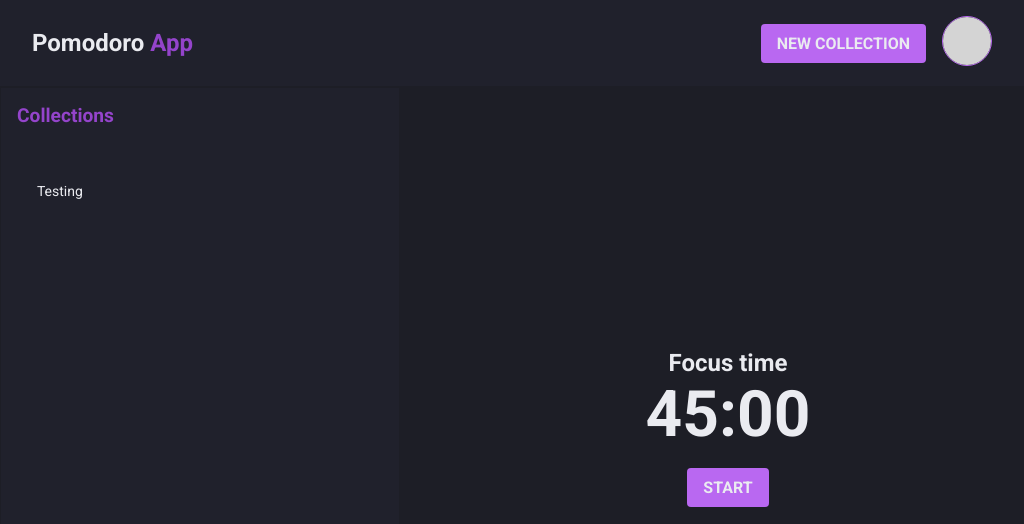
Scenario: Home › Should add a new TODO into selected collection
The width and height of the screenshot is (1024, 524).
Click the button "Testing": click(60, 191) [21,167,379,215]
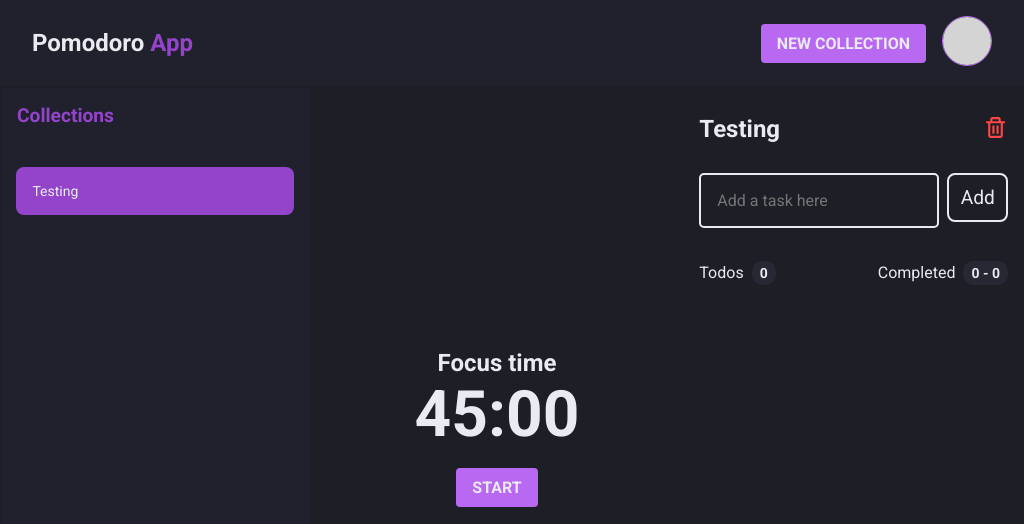
In the field with placeholder "Add a task here": (819, 200) [699,173,939,228], type "Todo 01"
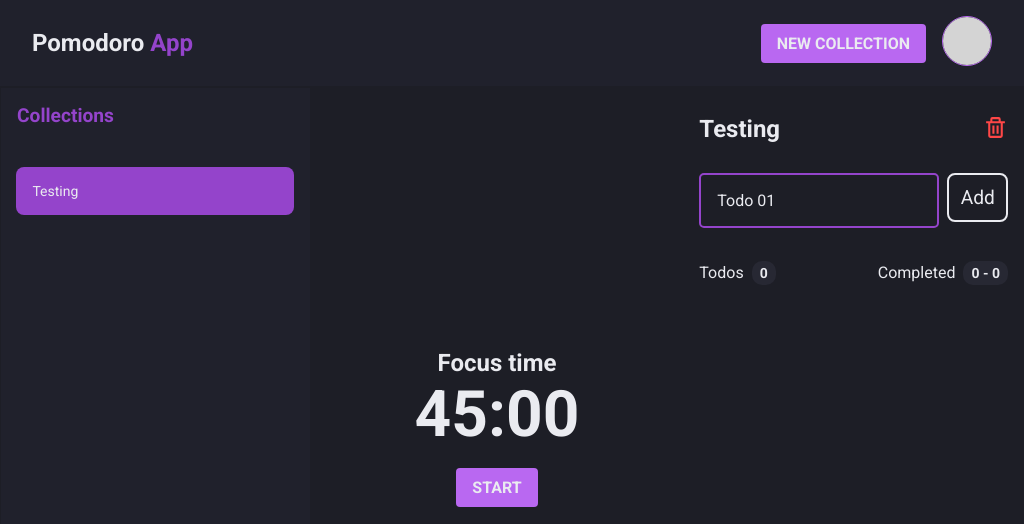
Press Enter in the field with placeholder "Add a task here", box [699,173,939,228]
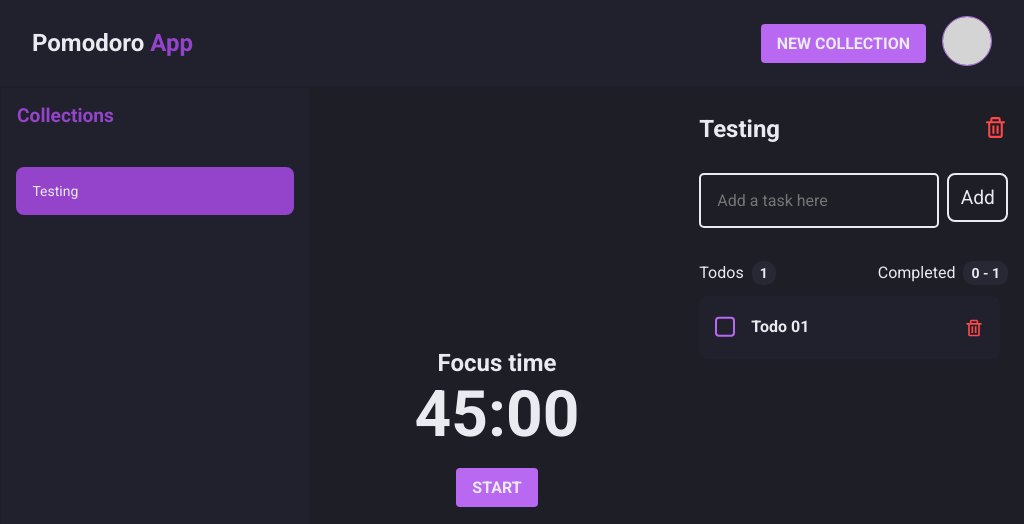
Expected: the text "Todo 01" is shown, [751,317,809,336]
